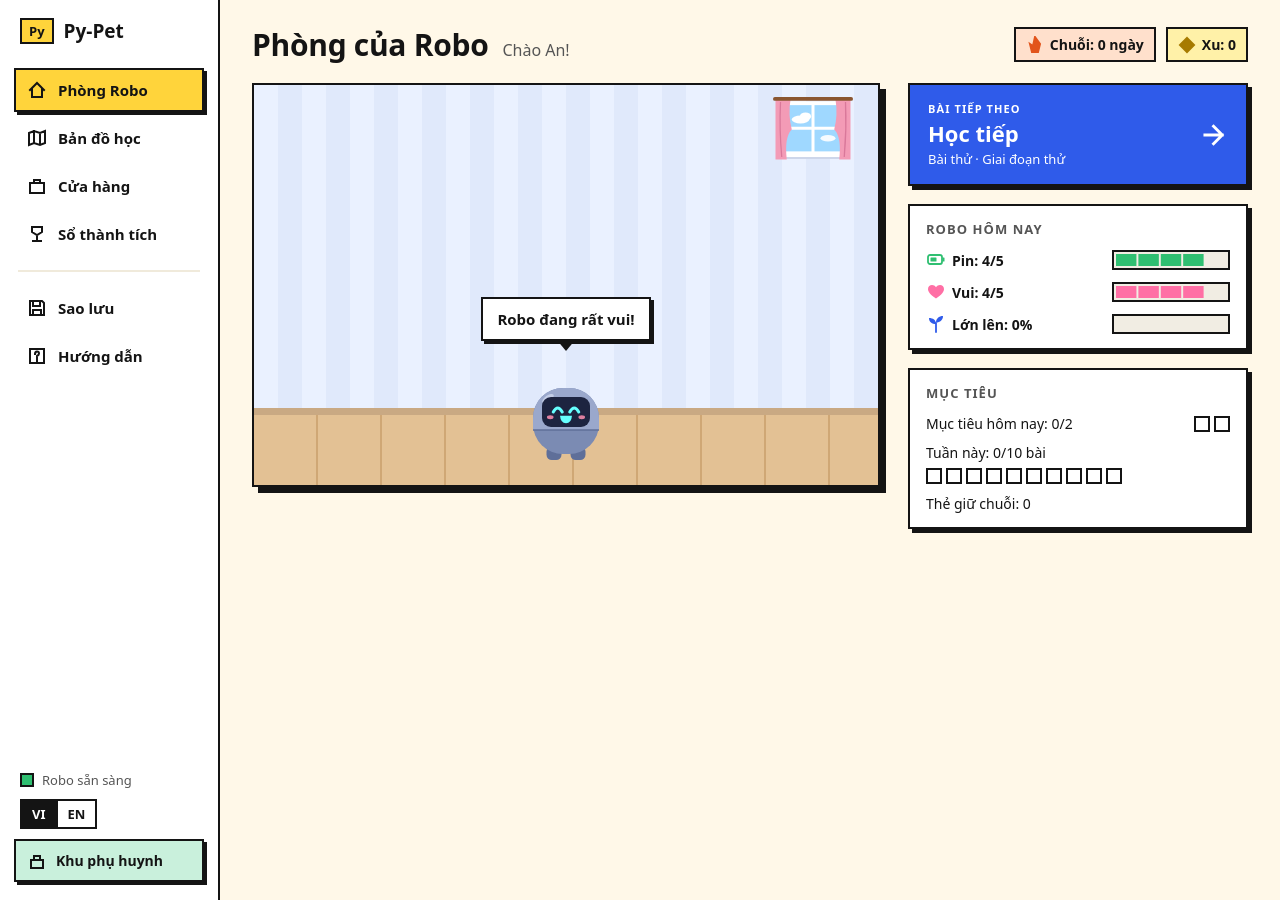
Scenario: AppRoutes › the room opens the next lesson
This screenshot has width=1280, height=900.
Check: the heading "Phòng của Robo" is shown, box [252,24,488,65]
Click the link "Học tiếp" at (974, 108), box [908,83,1248,186]
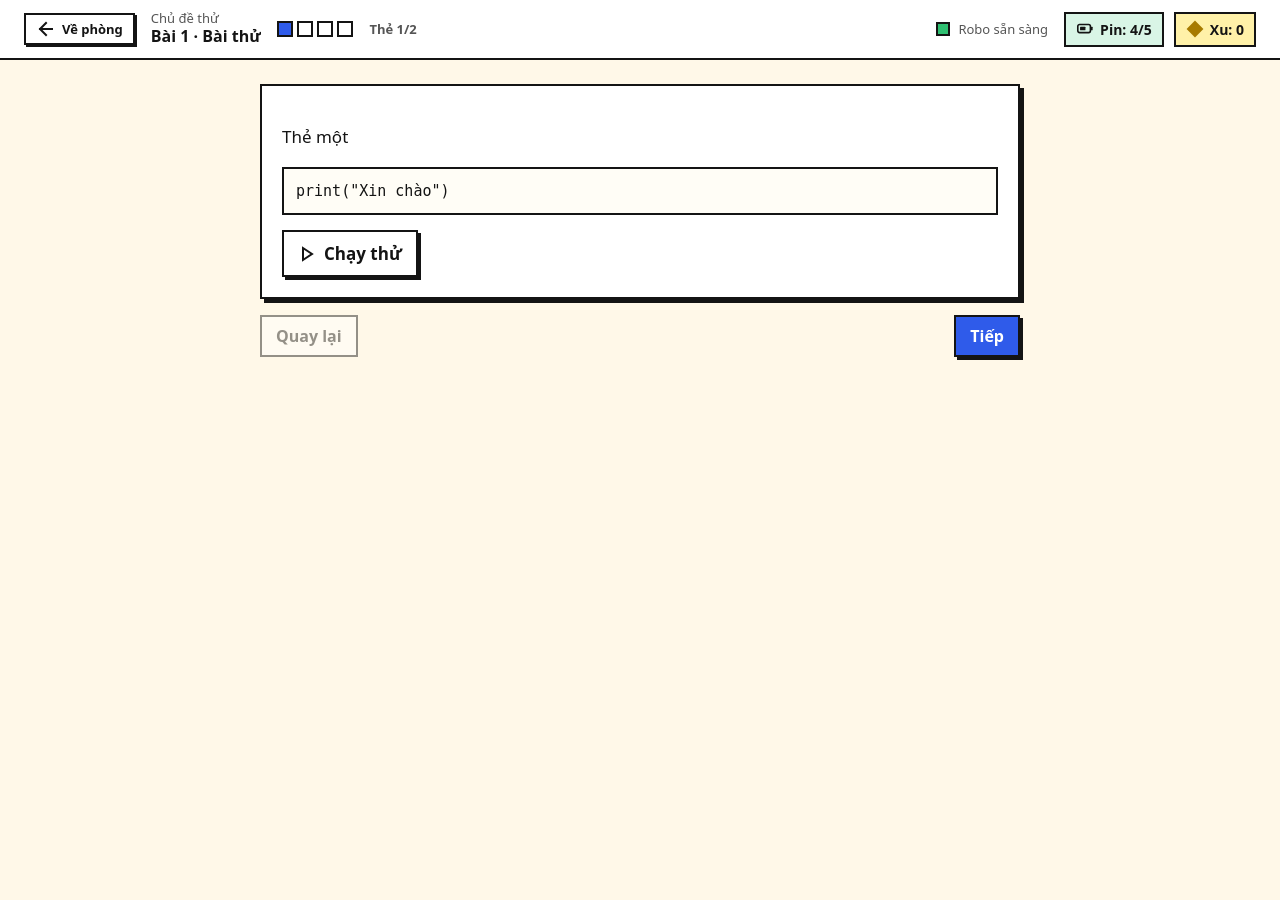
Check: the text "Thẻ 1/2" is shown, box [369,20,417,38]
